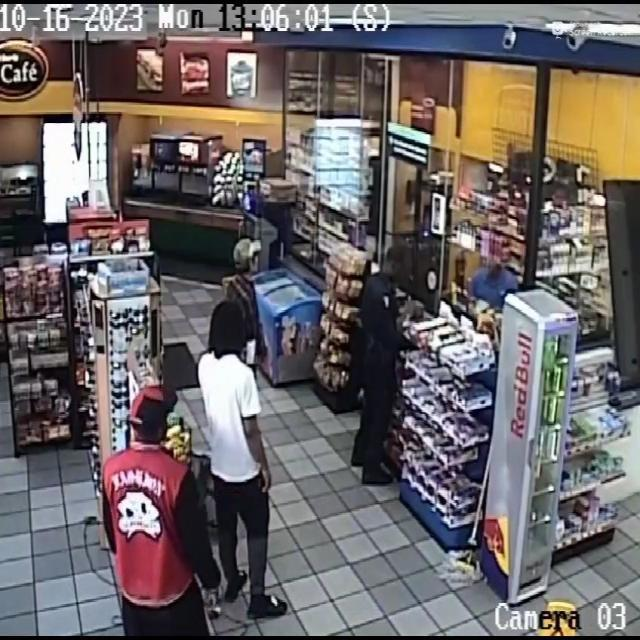Normal: (90, 388, 240, 640), (193, 299, 293, 615), (355, 231, 415, 498), (221, 238, 270, 372)
